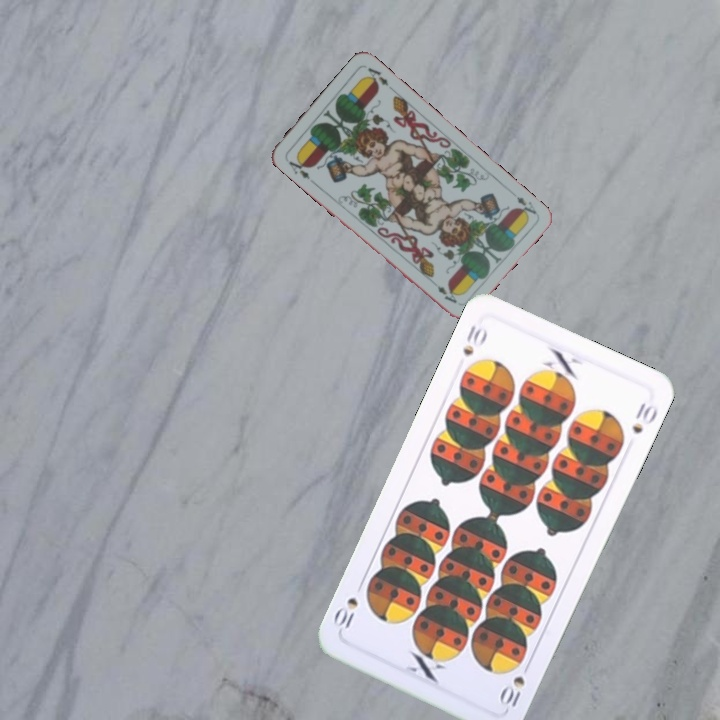EA: (282, 153, 313, 182), (512, 192, 539, 220)
S10: (496, 671, 528, 713), (458, 320, 490, 358)
